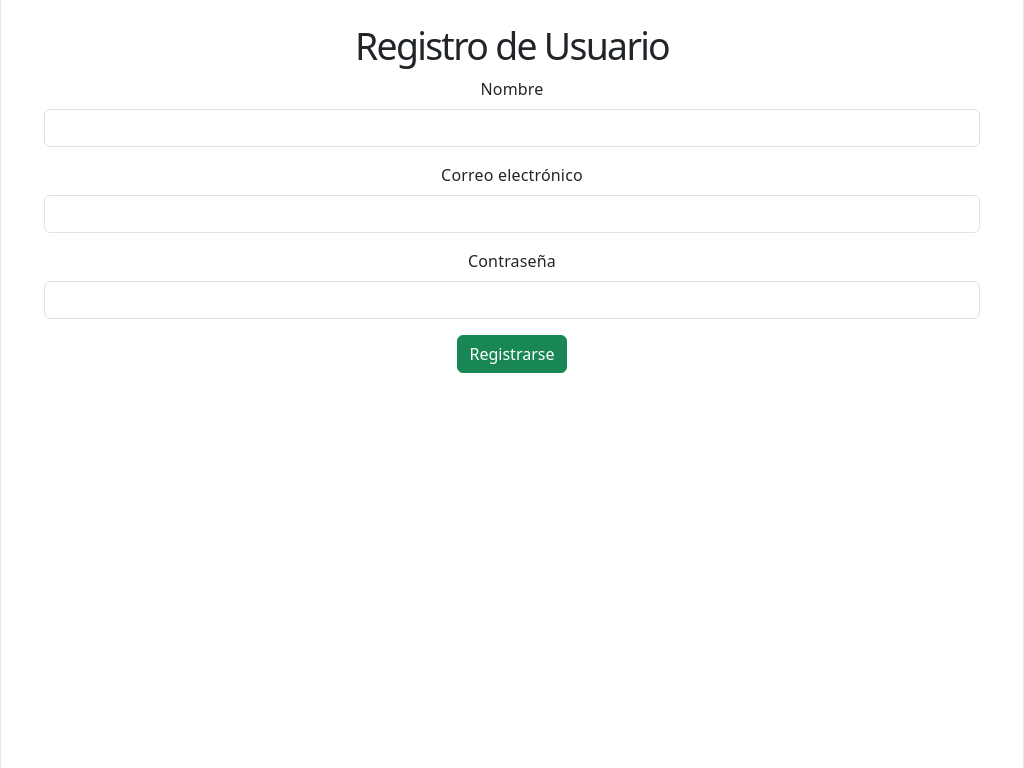
Componente Registro › muestra error si el nombre esta vacio
What coordinates should you click on to do the following:
click the button "Registrarse"
I would click on:
 (512, 354)
Its box is top-left (456, 335), bottom-right (568, 373).
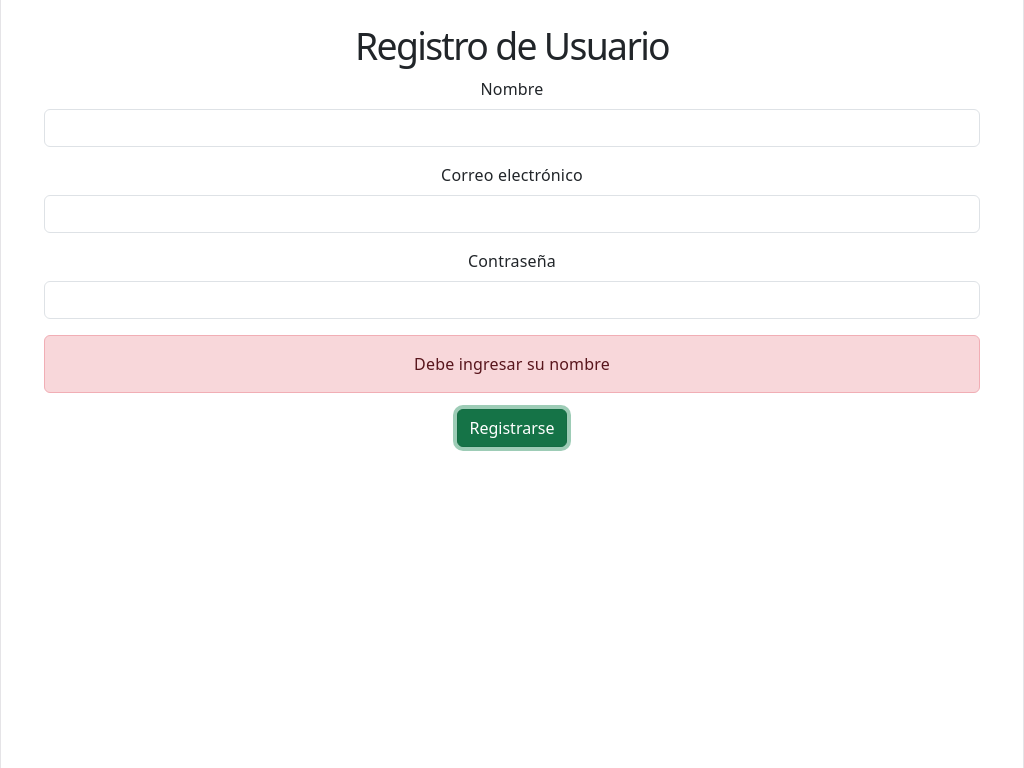
Now the text "Debe ingresar su nombre" is shown, box top-left (44, 335), bottom-right (980, 393)
